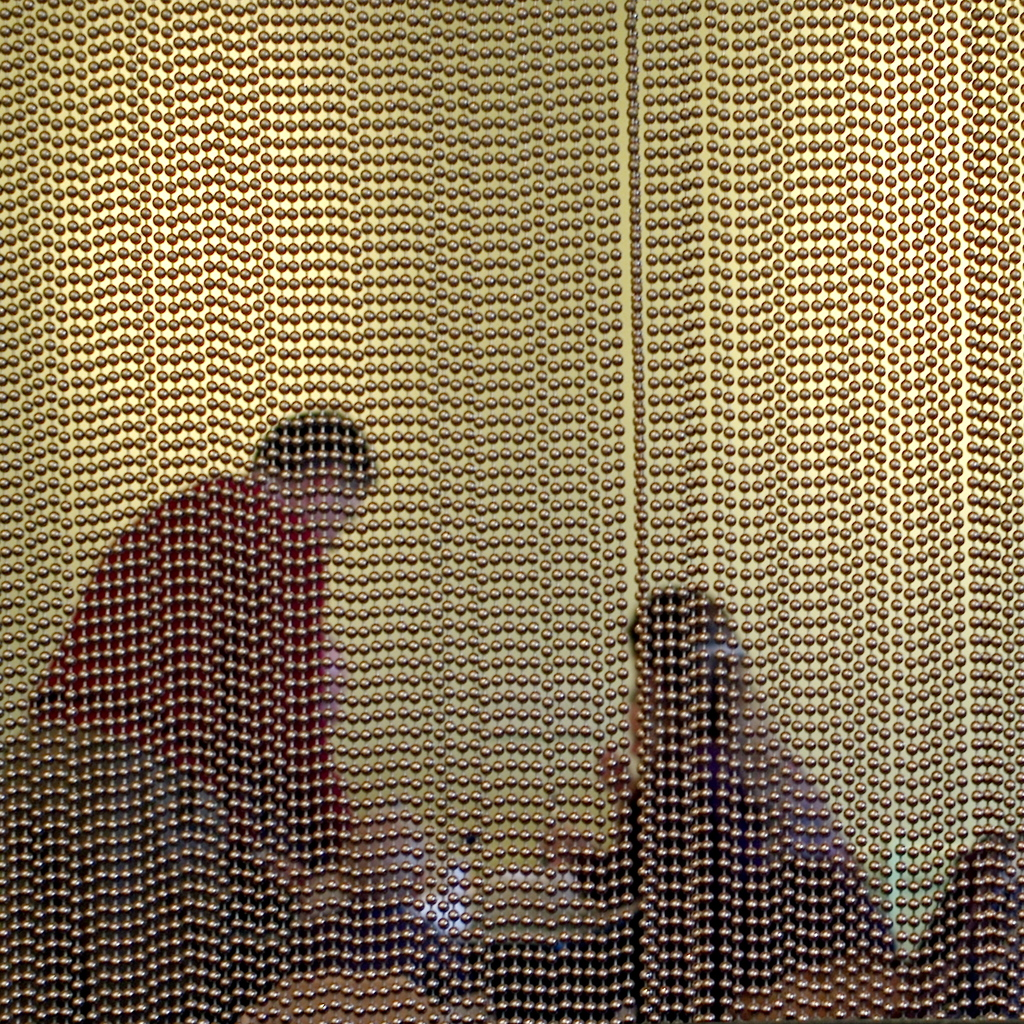face: (289, 454, 365, 550)
